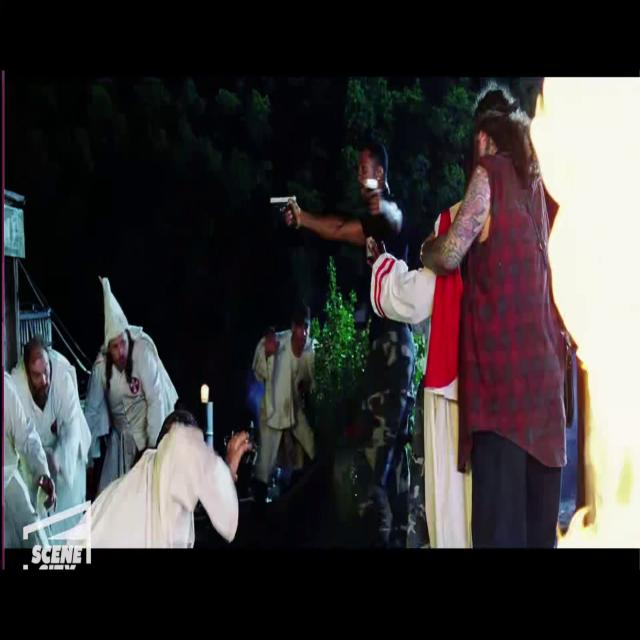weapons: (260, 176, 304, 244)
